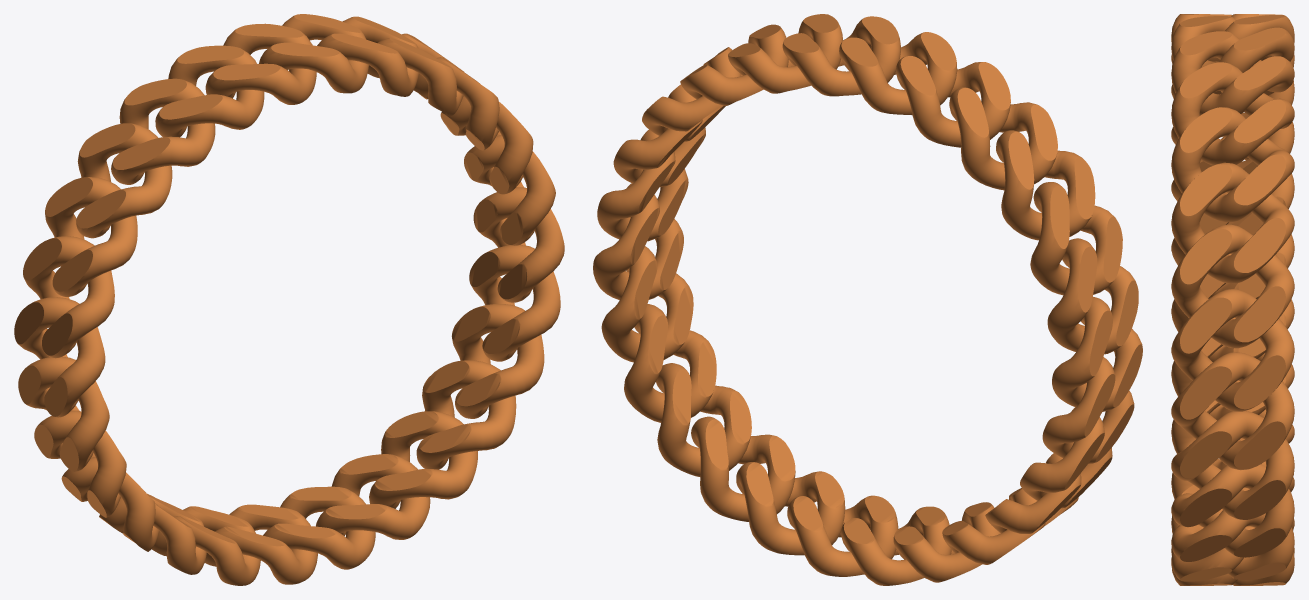
File: gelang_1.glb
3 renders of one model, left to right at view 1: azimuth 30°, elevation 25°; view 2: azimuth 150°, elevation 25°; view 3: azimuth 270°, elevation 25°, orthographic.
Parts seen in each view (by area): view 1: Bracelet_LOD0; view 2: Bracelet_LOD0; view 3: Bracelet_LOD0.
Part boxes in pixels (x1,y1,x2,y2): Bracelet_LOD0: (14,14,564,585); Bracelet_LOD0: (593,14,1142,585); Bracelet_LOD0: (1171,14,1294,585).
Bounding box in the file's own units: 4.82 × 4.82 × 1.04.
